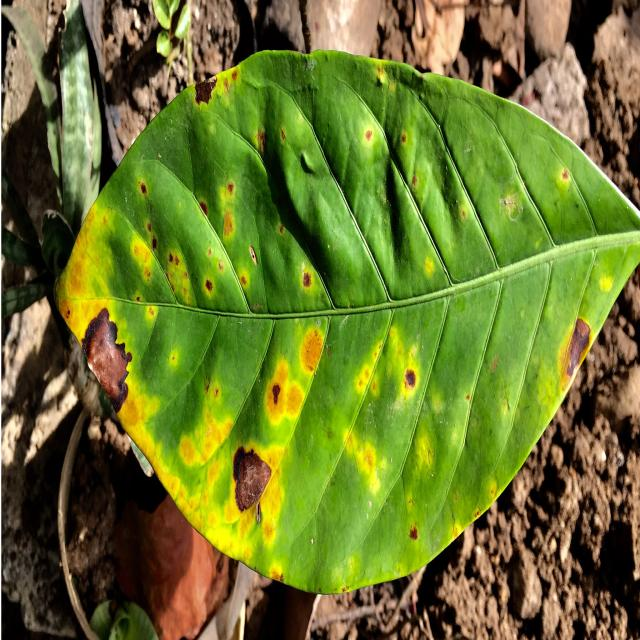Enfermedad-Mancha-de-hierro: (60, 51, 640, 598)
